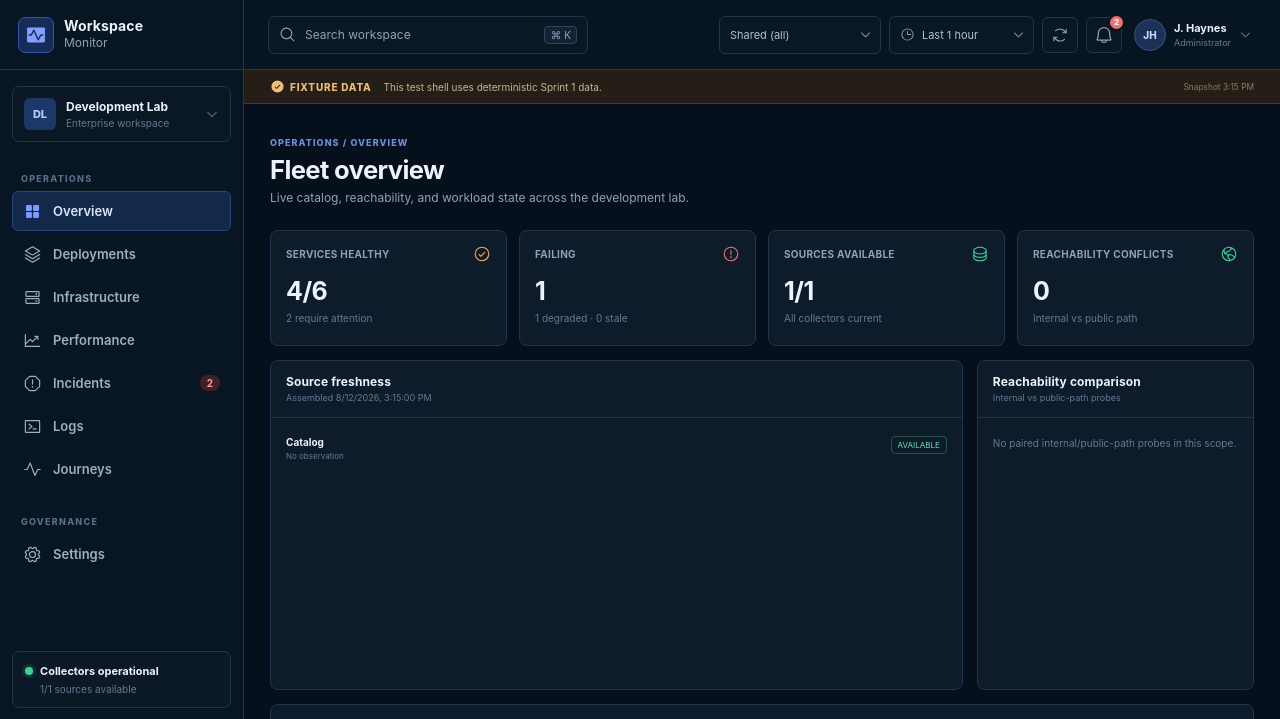
Test: enterprise application shell › opens and dismisses utility menus
Expected: the heading "Fleet overview" is shown, [270,154,444,185]
Step 1. Click the button named "Open alerts, 2 active" → (1104,34), box [1086,16,1122,52]
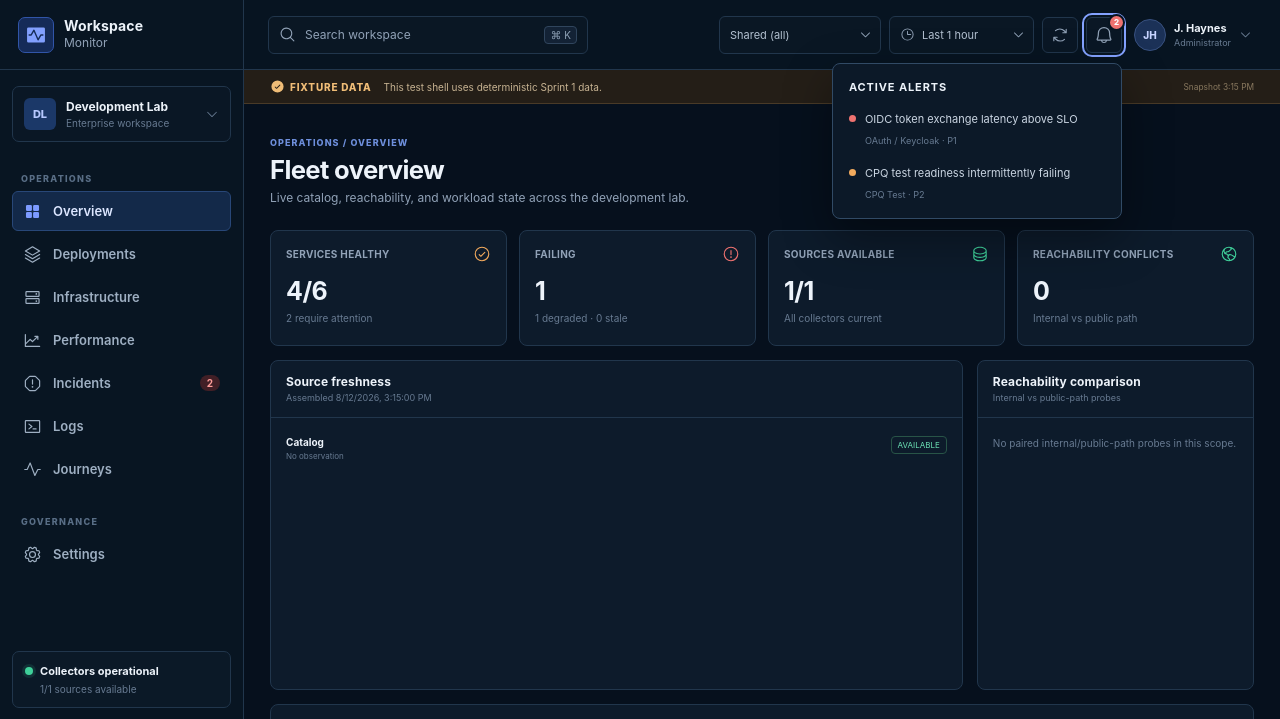
Expected: the button "OIDC token exchange latency above SLO" is shown, [841,102,1113,156]
Step 2. Click the button with aria-label "Open operator menu" → (1193,34), box [1130,14,1256,54]
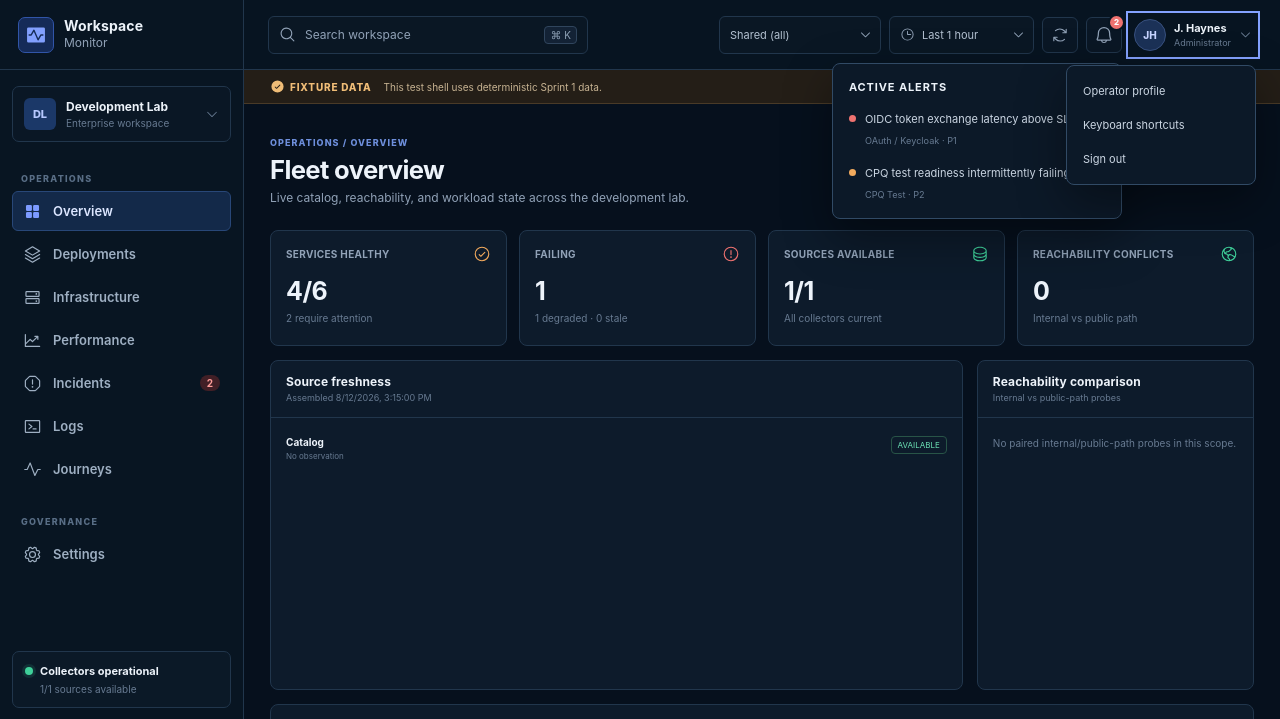
Expected: the button "Operator profile" is shown, [1075,74,1247,108]
Step 3. Press Escape
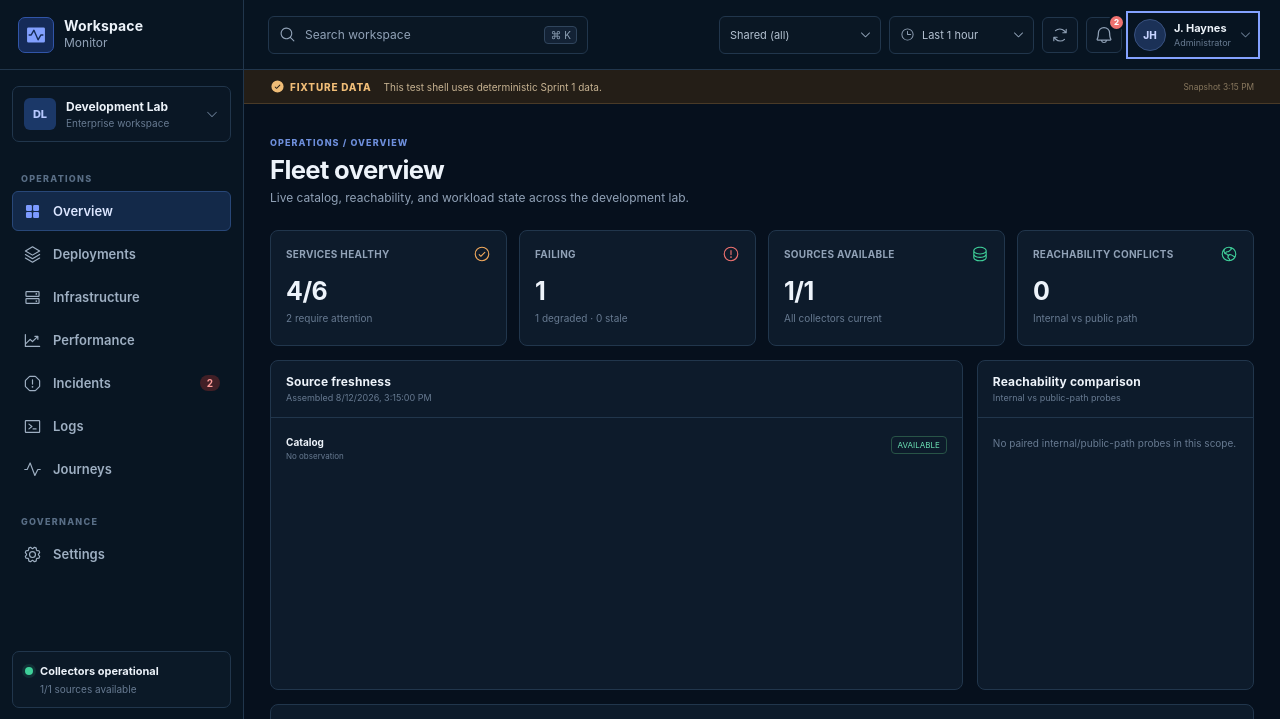
Expected: the button "OIDC token exchange latency above SLO" is gone
Expected: the button "Operator profile" is gone
